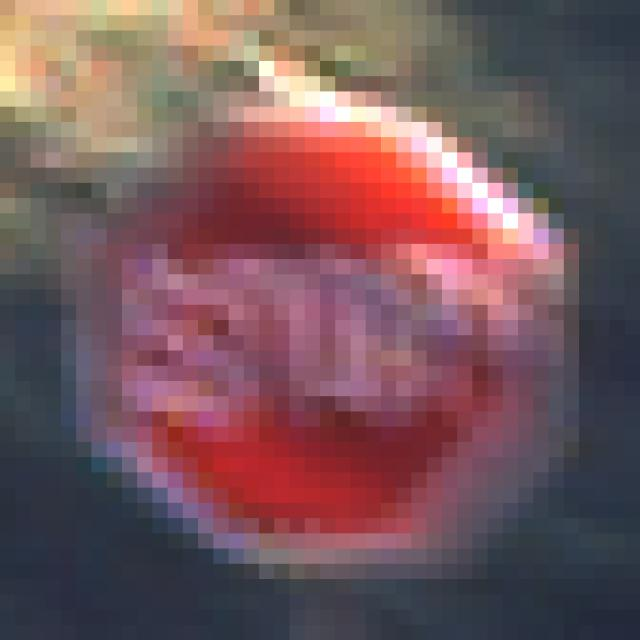STOP: (77, 77, 565, 565)
